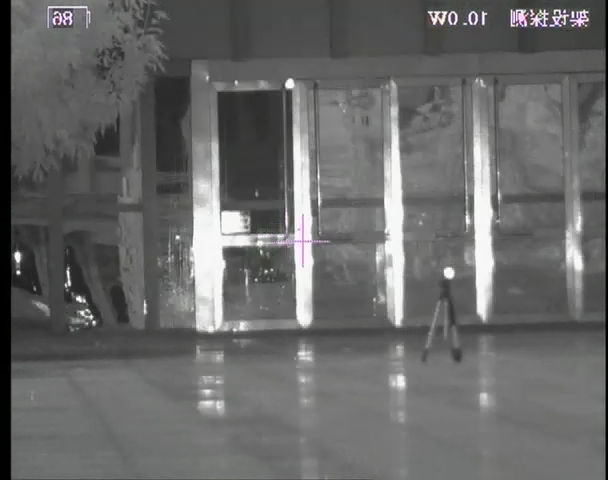my: (442, 266, 456, 280)
